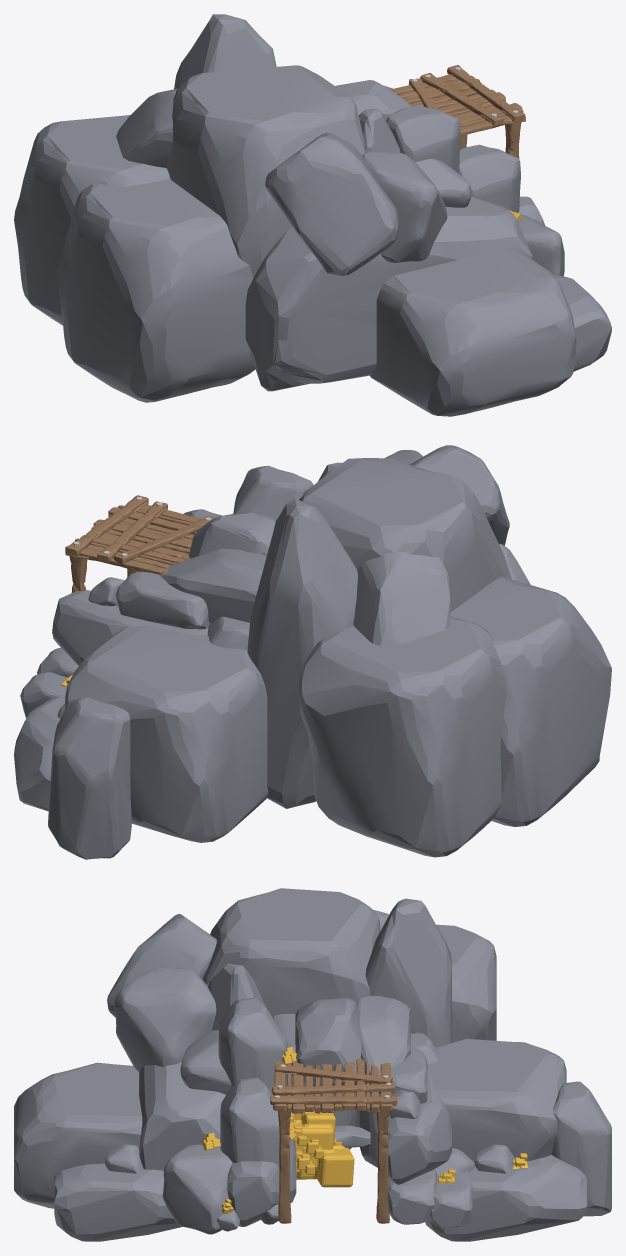
Rendered from mine.glb.
3 views of the same model, one above another, from view 1: azimuth 30°, elevation 25°; view 2: azimuth 150°, elevation 25°; view 3: azimuth 270°, elevation 25° (orthographic). The views are drawn at different scales.
Parts seen in each view (by area): view 1: Rock_space.038_52, Rock_space.027_41, Rock_space.014_27, Rock_space.019_33, Rock_space.036_50, Rock_space.021_35, Rock_space.020_34, Rock_space.018_31, Rock_space.017_30, Rock_space.037_51, Rock_space_15, Rock_space.028_42 (+6 smaller); view 2: Rock_space.036_50, Rock_space.030_44, Rock_space.038_52, Rock_space.018_31, Rock_space.014_27, Rock_space.033_47, Rock_space.037_51, Rock_space.015_28, Rock_space.009_22, Rock_space.007_20, Rock_space.031_45, Rock_space.021_35 (+10 smaller); view 3: Rock_space.014_27, Rock_space.030_44, Rock_space.027_41, Rock_space.018_31, Rock_space.031_45, Rock_space.020_34, Rock_space.028_42, Rock_space.019_33, Rock_space.033_47, Rock_space.036_50, Rock_space.004_14, Rock_space.017_30 (+24 smaller).
Boxes of the visible parts, x1,y1,x2,y2 form: Rock_space.038_52: (57,179,255,402); Rock_space.027_41: (369,247,576,416); Rock_space.014_27: (166,65,365,278); Rock_space.019_33: (245,196,532,391); Rock_space.036_50: (14,115,170,325); Rock_space.021_35: (265,132,398,275); Rock_space.020_34: (362,151,447,263); Rock_space.018_31: (174,14,276,89); Rock_space.017_30: (386,105,460,173); Rock_space.037_51: (116,88,177,167); Rock_space_15: (459,144,520,212); Rock_space.028_42: (552,274,611,371); Rock_space.036_50: (298,616,506,857); Rock_space.030_44: (64,625,268,842); Rock_space.038_52: (450,577,611,826); Rock_space.018_31: (247,498,357,808); Rock_space.014_27: (299,458,511,611); Rock_space.033_47: (48,697,131,859); Rock_space.037_51: (353,552,450,645); Rock_space.015_28: (159,548,266,623); Rock_space.009_22: (52,590,208,665); Rock_space.007_20: (115,571,209,629); Rock_space.031_45: (14,696,65,811); Rock_space.021_35: (410,445,509,545); Rock_space.014_27: (202,888,380,1149); Rock_space.030_44: (427,1038,566,1161); Rock_space.027_41: (14,1062,142,1208); Rock_space.018_31: (355,898,451,1167); Rock_space.031_45: (425,1155,586,1241); Rock_space.020_34: (114,967,216,1071); Rock_space.028_42: (54,1163,182,1241); Rock_space.019_33: (139,1061,225,1170); Rock_space.033_47: (551,1081,611,1216); Rock_space.036_50: (436,924,496,1042); Rock_space.004_14: (162,1144,232,1234); Rock_space.017_30: (218,997,287,1094).
Bounding box in the file's own units: 13.51 × 8.55 × 17.34.
